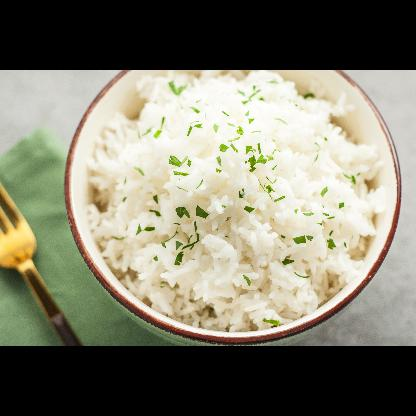white rice: (85, 69, 385, 329)
